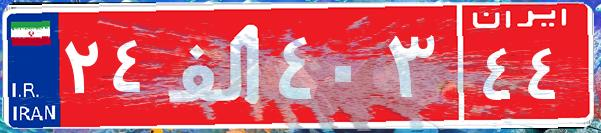0: (330, 28, 385, 110)
2: (57, 26, 110, 107)
3: (385, 28, 445, 110)
4: (273, 28, 330, 110), (475, 38, 525, 113), (110, 28, 158, 105), (525, 38, 570, 115)
الف: (158, 15, 273, 115)
